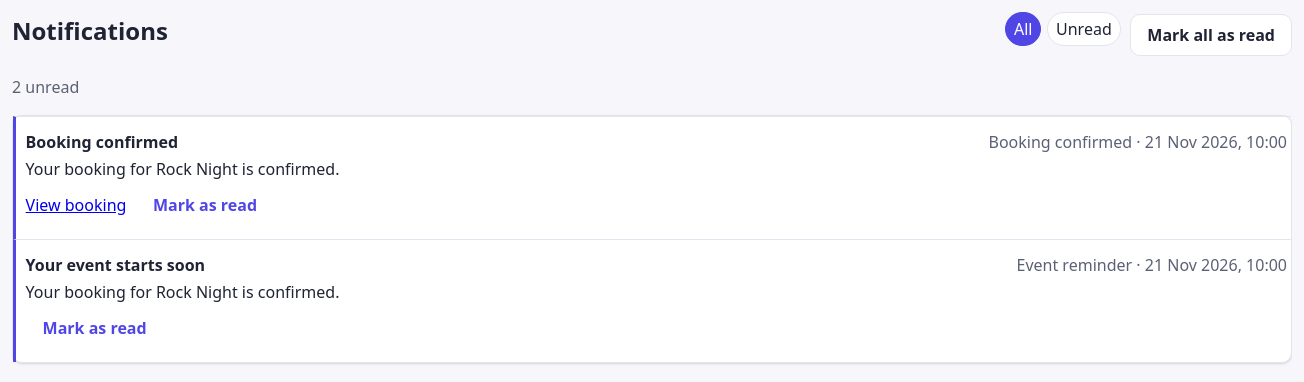
Test case: NotificationsPage › lists notifications, marks one and all as read, and refreshes the badge
Expected: the text "Your event starts soon" is shown, [26,253,205,277]
Expected: the text "2 unread" is shown, [12,76,79,98]
Click the button "Mark as read" next to "View booking".
click(205, 205)  # box [136,184,274,226]
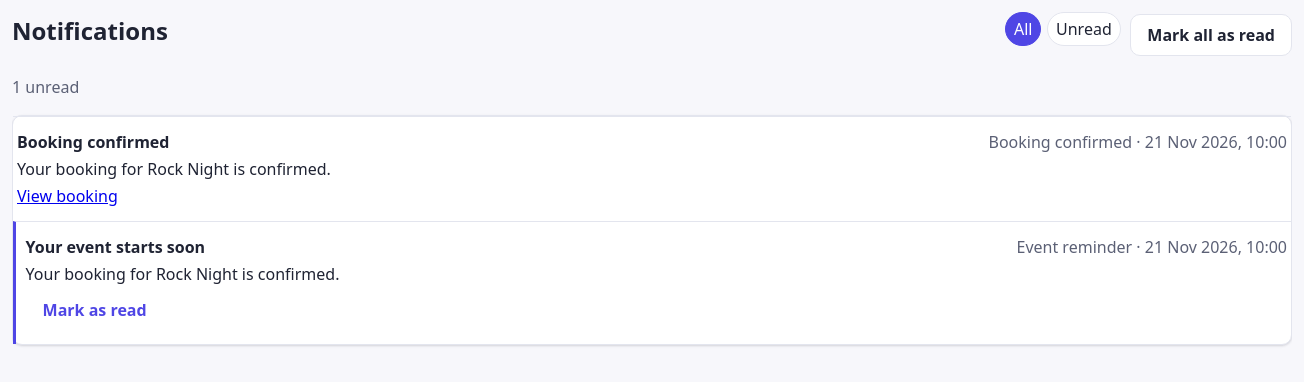
Expected: the text "1 unread" is shown, [12,76,79,98]
Click the button "Mark all as read".
click(1211, 35)  # box [1130,14,1292,56]
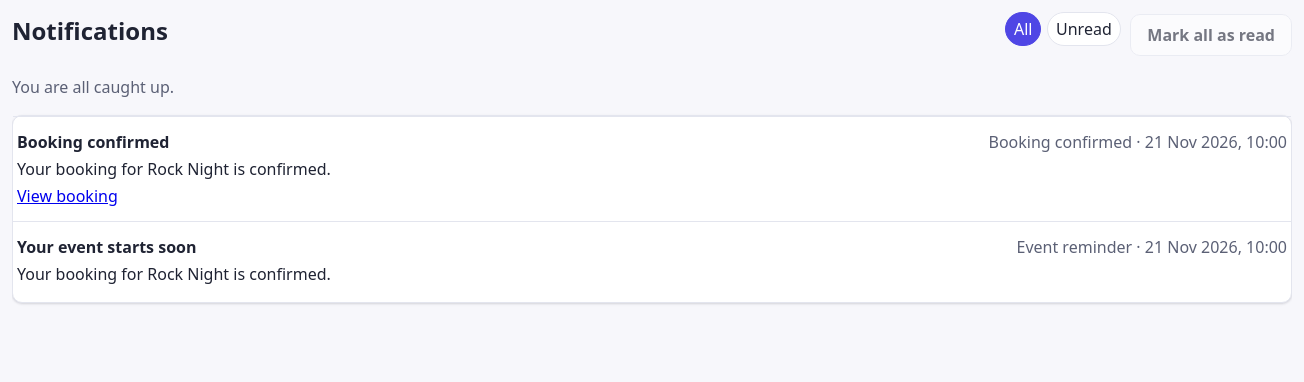
Expected: the text "You are all caught up." is shown, [12,76,174,98]
Expected: the button "Mark all as read" is disabled, [1130,14,1292,56]
